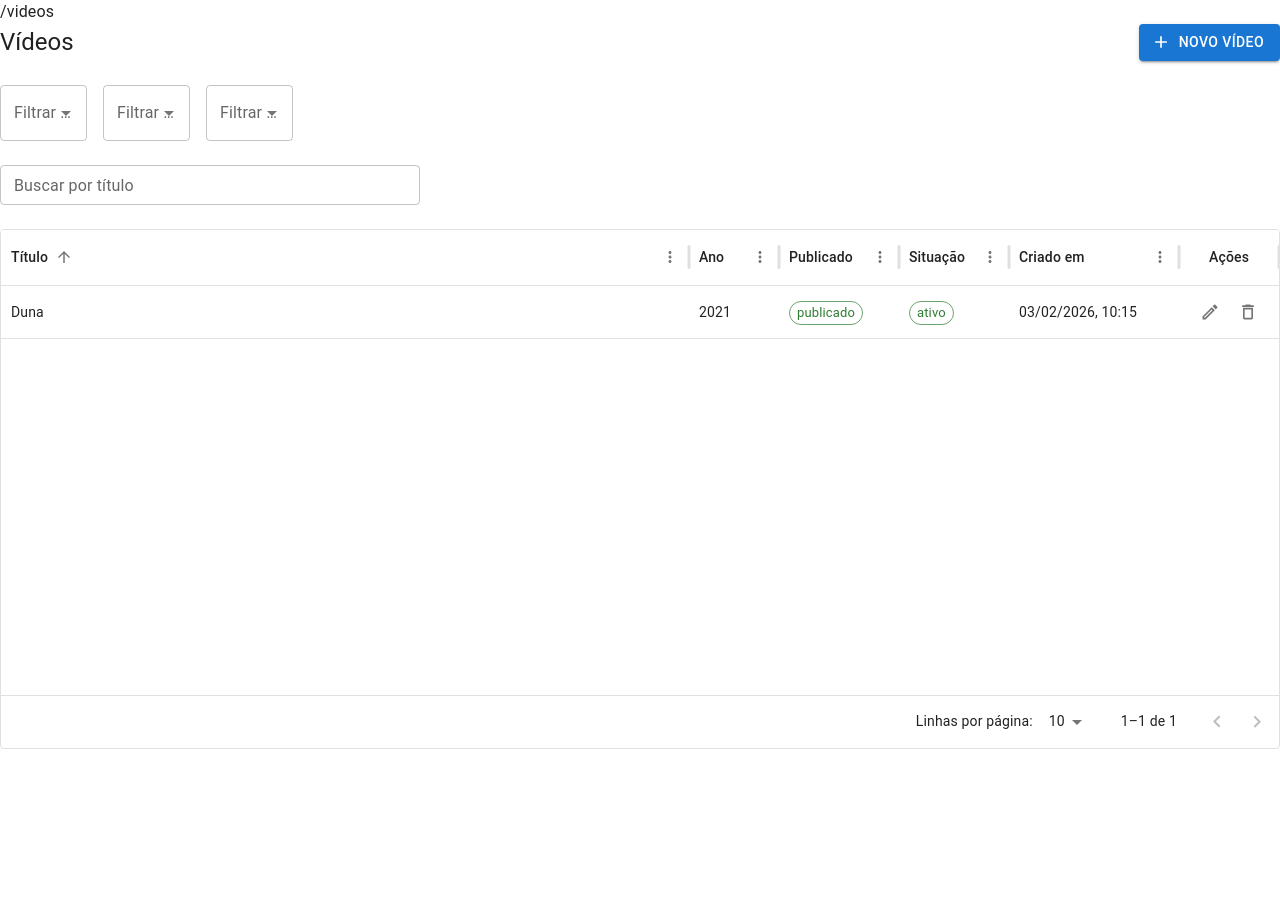
Test: VideoList › givenUmVideo_whenClicaEmRemover_thenPerguntaAntesEAvisaSobreOsArquivos
Check: the text "Duna" is shown, box top-left (11, 304), bottom-right (44, 320)
Click the menu item named "Remover".
click(1248, 312)  # box top-left (1233, 297), bottom-right (1263, 327)
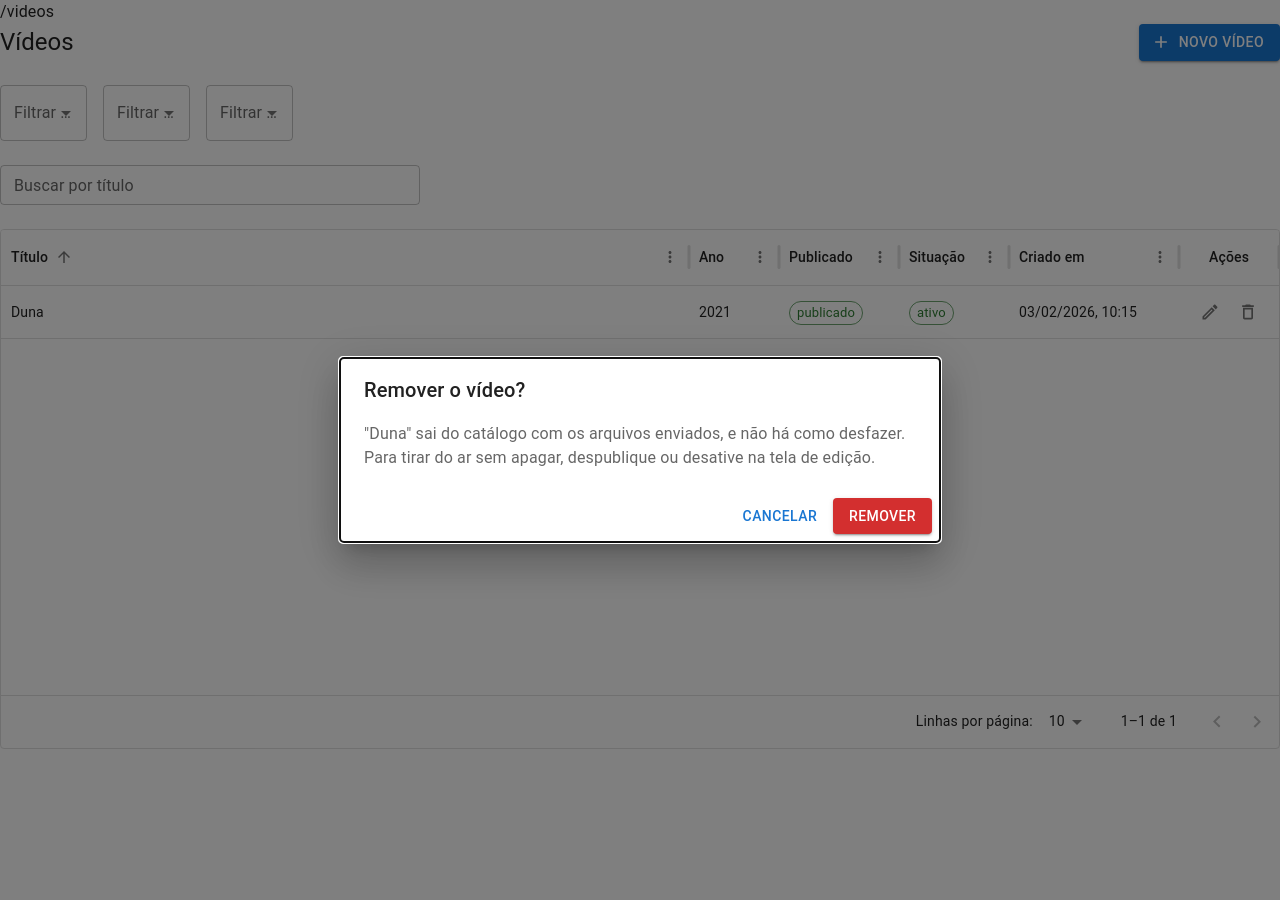
Check: the heading "Remover o vídeo?" is shown, box top-left (364, 378), bottom-right (526, 402)
Check: the text "com os arquivos enviados" is shown, box top-left (364, 424), bottom-right (905, 467)
